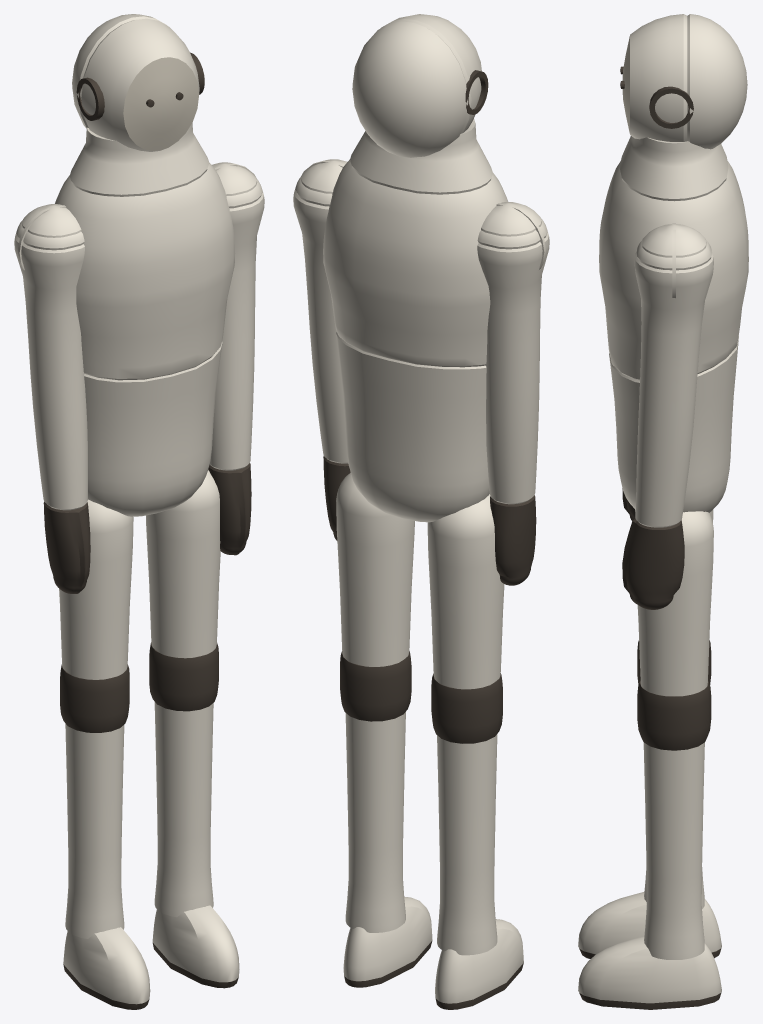
Rendered from chassis-silhouette.glb.
3 views of the same model, side by side, from view 1: azimuth 30°, elevation 25°; view 2: azimuth 150°, elevation 25°; view 3: azimuth 270°, elevation 25° (orthographic). The views are drawn at different scales.
Visible parts, largest first — view 1: torso, leg_L, leg_R, arm_R, head, arm_L, knee_actuator_R, knee_actuator_L; view 2: torso, leg_R, leg_L, arm_R, head, arm_L, knee_actuator_L, knee_actuator_R; view 3: torso, leg_L, arm_L, head, knee_actuator_L, leg_R.
Boxes of the visible parts, x1,y1,x2,y2 form: torso: (55, 123, 235, 516); leg_L: (146, 470, 239, 988); leg_R: (59, 499, 150, 1009); arm_R: (14, 204, 90, 593); head: (72, 14, 204, 151); arm_L: (208, 162, 264, 555); knee_actuator_R: (60, 664, 129, 732); knee_actuator_L: (149, 642, 218, 711); torso: (323, 119, 508, 522); leg_R: (427, 494, 523, 1009); leg_L: (336, 472, 432, 987); arm_R: (477, 202, 549, 585); head: (352, 14, 488, 157); arm_L: (293, 159, 350, 540); knee_actuator_L: (340, 651, 411, 721); knee_actuator_R: (431, 673, 502, 743); torso: (599, 136, 748, 512); leg_L: (578, 511, 721, 1009); arm_L: (622, 223, 713, 609); head: (620, 14, 747, 149); knee_actuator_L: (637, 681, 711, 750); leg_R: (578, 509, 721, 958).
Bounding box in the file's own units: 0.433 × 1.61 × 0.261.
